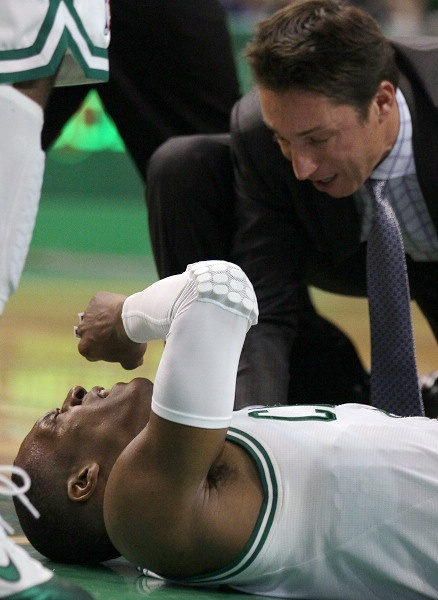falling: (8, 251, 438, 592)
